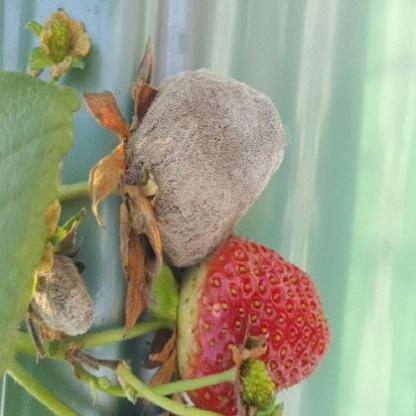Strawberry_Gray_Mold: (81, 68, 288, 338), (27, 223, 96, 357)
